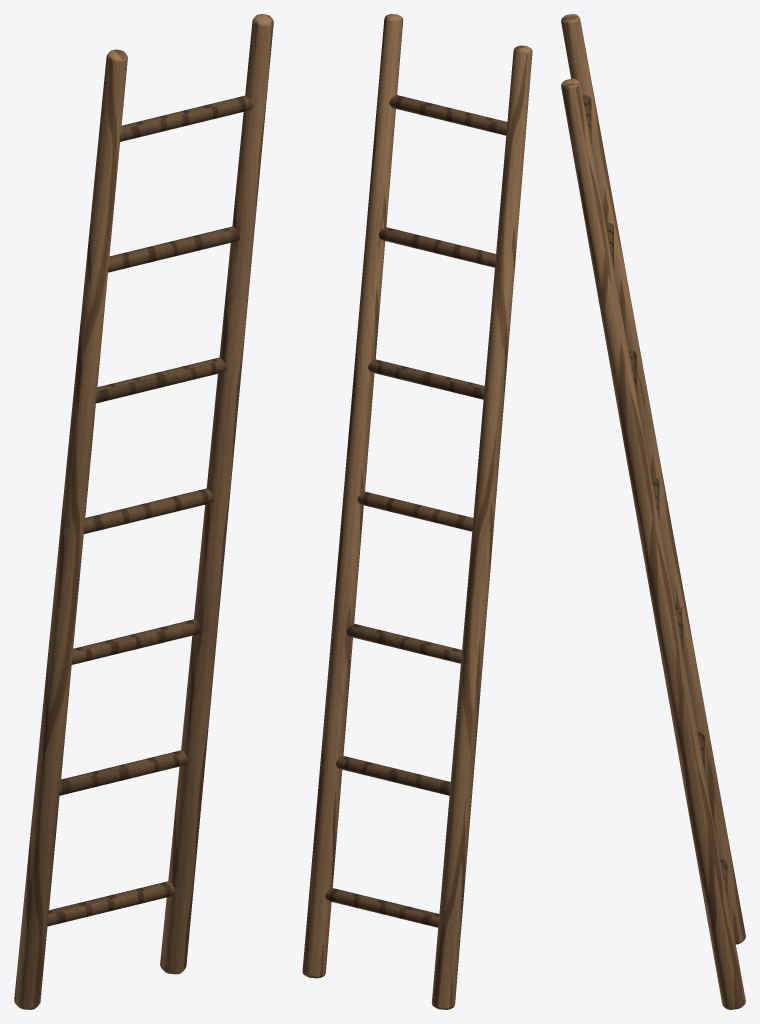
Rendered from p_ladder.glb.
3 views of the same model, side by side, from view 1: azimuth 30°, elevation 25°; view 2: azimuth 150°, elevation 25°; view 3: azimuth 270°, elevation 25° (orthographic). The views are drawn at different scales.
Visible parts, largest first — view 1: ladder; view 2: ladder; view 3: ladder.
Part boxes in pixels (bbox=[...]): ladder: bbox=[14, 14, 273, 1009]; ladder: bbox=[302, 14, 532, 1009]; ladder: bbox=[561, 14, 745, 1009].
Size of the model in its own units: 0.4589 by 2.67 by 0.483.
Materials: 1 (1 with a texture image).
